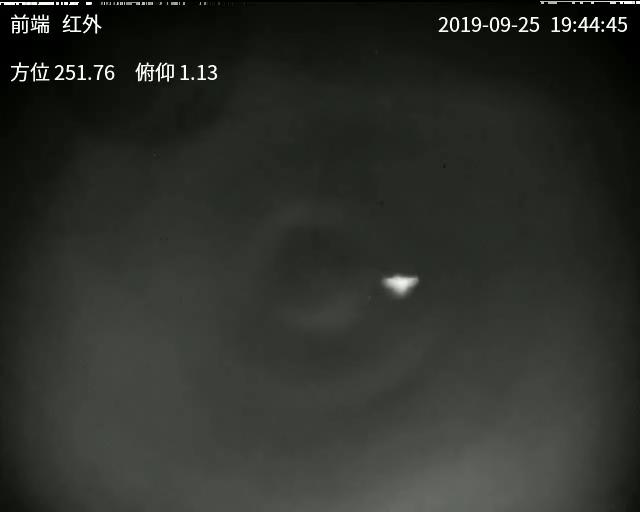uav: (376, 268, 420, 301)
